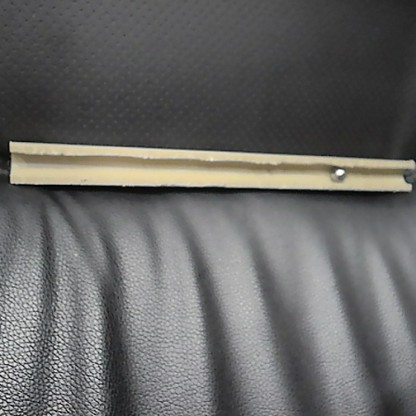ironball: (328, 163, 347, 183)
